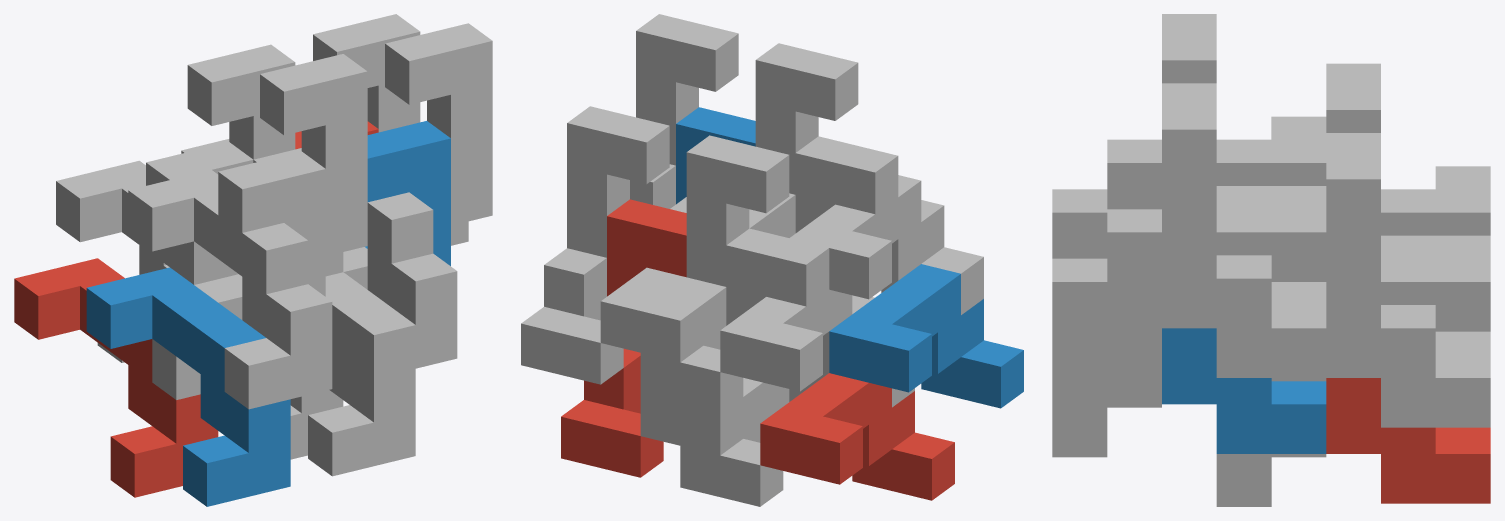
File: tiling.obj
The picture shows the model from 3 angles, left to right: view 1: azimuth 30°, elevation 25°; view 2: azimuth 150°, elevation 25°; view 3: azimuth 270°, elevation 25°; orthographic projection. The views are drawn at different scales.
Parts seen in each view (by area): view 1: copy_1_domain_4, copy_1_domain_2, copy_1_domain_8, copy_1_domain_1, copy_2_domain_4, copy_2_domain_8, copy_1_domain_6, copy_1_domain_3, copy_2_domain_2, copy_2_domain_3, copy_2_domain_6, copy_2_domain_7 (+3 smaller); view 2: copy_2_domain_7, copy_1_domain_2, copy_2_domain_3, copy_1_domain_1, copy_2_domain_1, copy_2_domain_5, copy_1_domain_4, copy_2_domain_8, copy_2_domain_4, copy_1_domain_3, copy_2_domain_2, copy_1_domain_7 (+3 smaller); view 3: copy_2_domain_8, copy_2_domain_7, copy_1_domain_8, copy_1_domain_4, copy_2_domain_5, copy_2_domain_6, copy_1_domain_6, copy_1_domain_7, copy_1_domain_3, copy_2_domain_4, copy_2_domain_3, copy_1_domain_5.
Boxes of the visible parts, x1,y1,x2,y2 form: copy_1_domain_4: (128,170,332,409); copy_1_domain_2: (86,267,290,506); copy_1_domain_8: (253,148,457,378); copy_1_domain_1: (14,258,218,497); copy_2_domain_4: (236,54,367,276); copy_2_domain_8: (385,23,492,245); copy_1_domain_6: (308,272,415,476); copy_1_domain_3: (56,160,242,399); copy_2_domain_2: (218,151,325,296); copy_2_domain_3: (139,44,295,265); copy_2_domain_6: (365,121,450,265); copy_2_domain_7: (313,14,420,132); copy_2_domain_7: (521,106,669,384); copy_1_domain_2: (829,264,1023,408); copy_2_domain_3: (640,135,789,413); copy_1_domain_1: (760,373,954,500); copy_2_domain_1: (680,228,829,506); copy_2_domain_5: (561,199,686,477); copy_1_domain_4: (789,175,983,314); copy_2_domain_8: (630,14,738,208); copy_2_domain_4: (755,43,858,237); copy_1_domain_3: (720,289,914,407); copy_2_domain_2: (789,136,898,401); copy_1_domain_7: (600,267,703,362); copy_2_domain_8: (1162,83,1326,377); copy_2_domain_7: (1326,133,1490,427); copy_1_domain_8: (1052,186,1326,381); copy_1_domain_4: (1052,116,1326,258); copy_2_domain_5: (1326,378,1490,503); copy_2_domain_6: (1162,328,1326,453); copy_1_domain_6: (1052,331,1161,457); copy_1_domain_7: (1271,235,1490,381); copy_1_domain_3: (1381,166,1490,235); copy_2_domain_4: (1162,14,1271,209); copy_2_domain_3: (1326,63,1435,258); copy_1_domain_5: (1216,454,1326,506).
Size of the model in its own units: 8 by 9 by 8.
